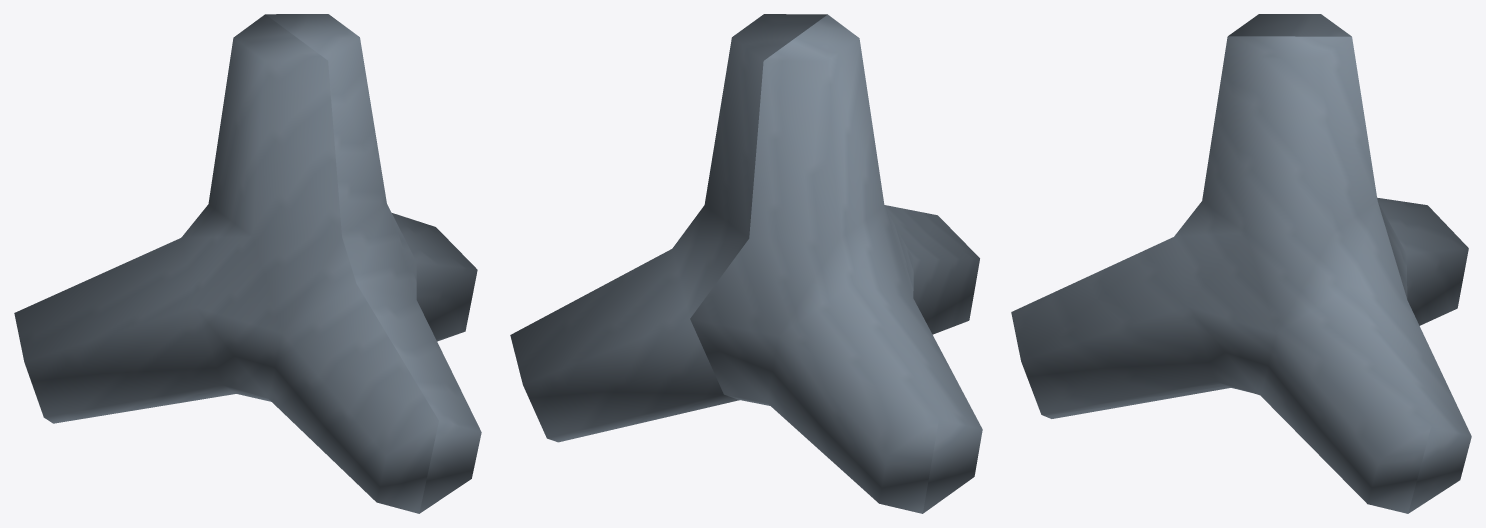
Rendered from tetrapod.glb.
3 views of the same model, side by side, from view 1: azimuth 30°, elevation 25°; view 2: azimuth 150°, elevation 25°; view 3: azimuth 270°, elevation 25° (orthographic). The views are drawn at different scales.
Visible parts, largest first — view 1: stktex_generic_waterConcreteA.png__; view 2: stktex_generic_waterConcreteA.png__; view 3: stktex_generic_waterConcreteA.png__.
Part boxes in pixels (<box>): stktex_generic_waterConcreteA.png__: <box>14,14,481,513</box>; stktex_generic_waterConcreteA.png__: <box>510,14,982,513</box>; stktex_generic_waterConcreteA.png__: <box>1011,14,1471,513</box>.
Bounding box in the file's own units: 24.06 × 20.21 × 21.43.
Materials: 1 (1 with a texture image).
